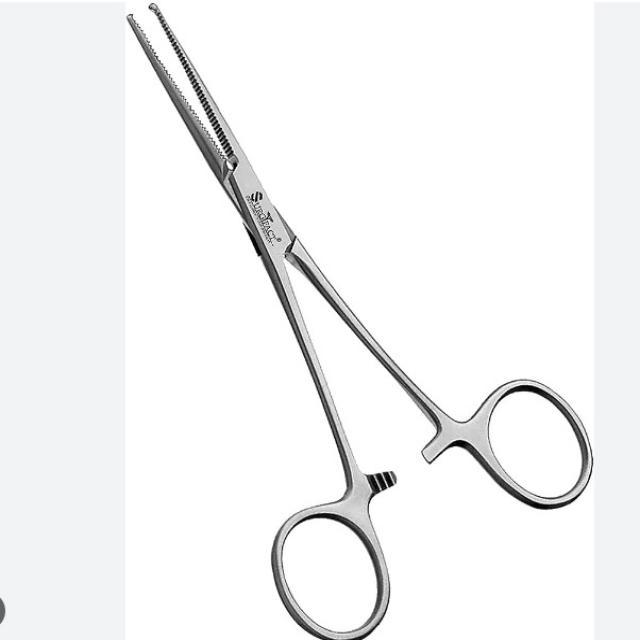Kocher Forceps: (120, 4, 596, 640)
